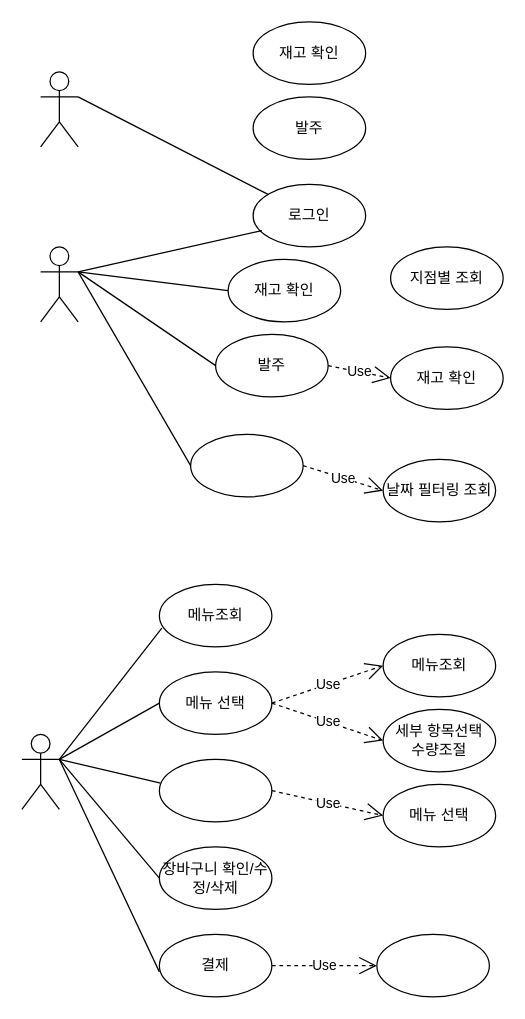
Some shapes in this 525 by 1019 pixel diagram are drawn without their labels. Here are the shapes that lost their labels. From the top down, the centre of each, then its label:
(58,109): 본사
(58,284): 지점
(246,465): 결재 내역 확인
(40,771): 고객
(215,790): 장바구니 담기
(432,965): 결제 수단 선택
